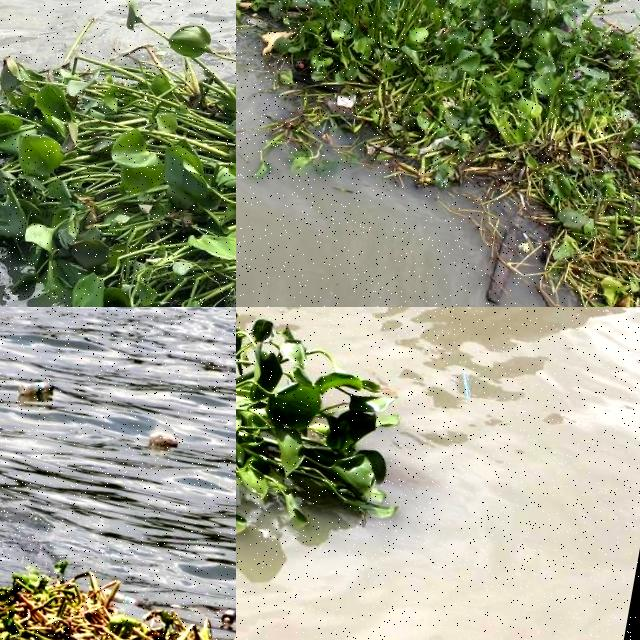plastic bottle: (147, 427, 183, 448), (19, 380, 55, 394)
water-hyacinth: (237, 1, 640, 308), (1, 1, 237, 308), (237, 308, 425, 576), (1, 527, 237, 640)
